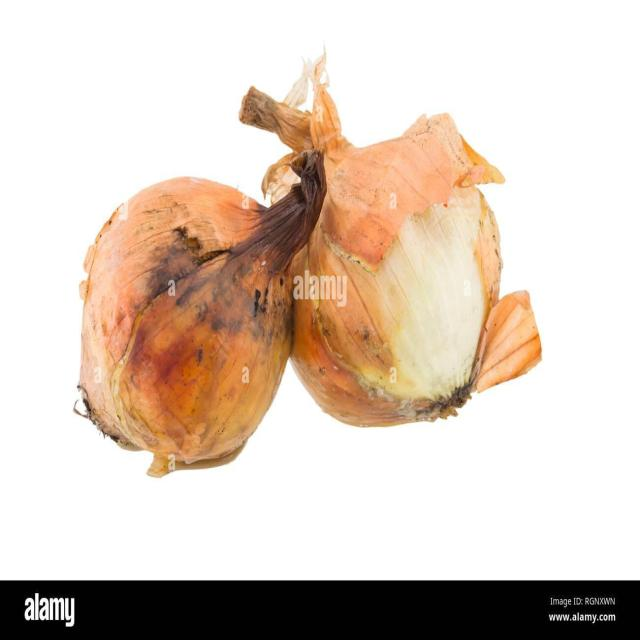Onion: (236, 43, 544, 431), (73, 146, 327, 473)
